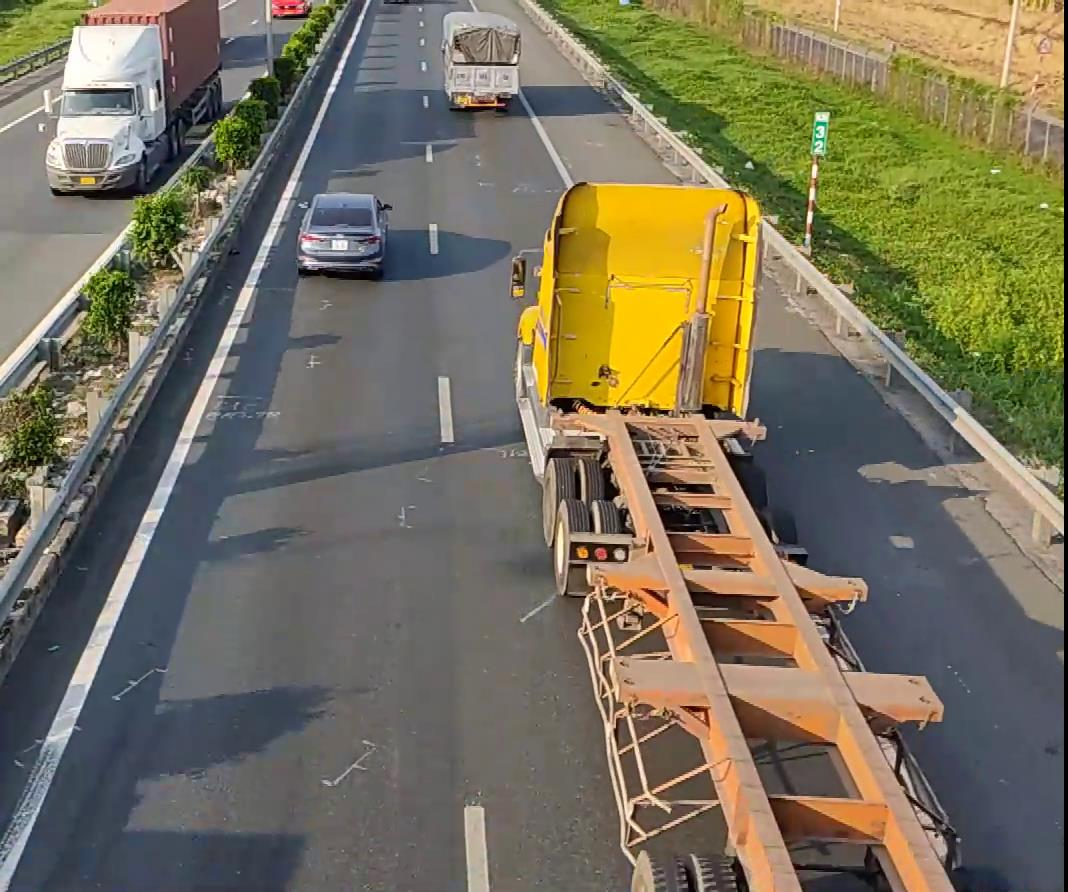car: (295, 191, 389, 276)
container: (502, 173, 982, 891), (49, 0, 226, 201)
truck: (440, 9, 521, 111)
